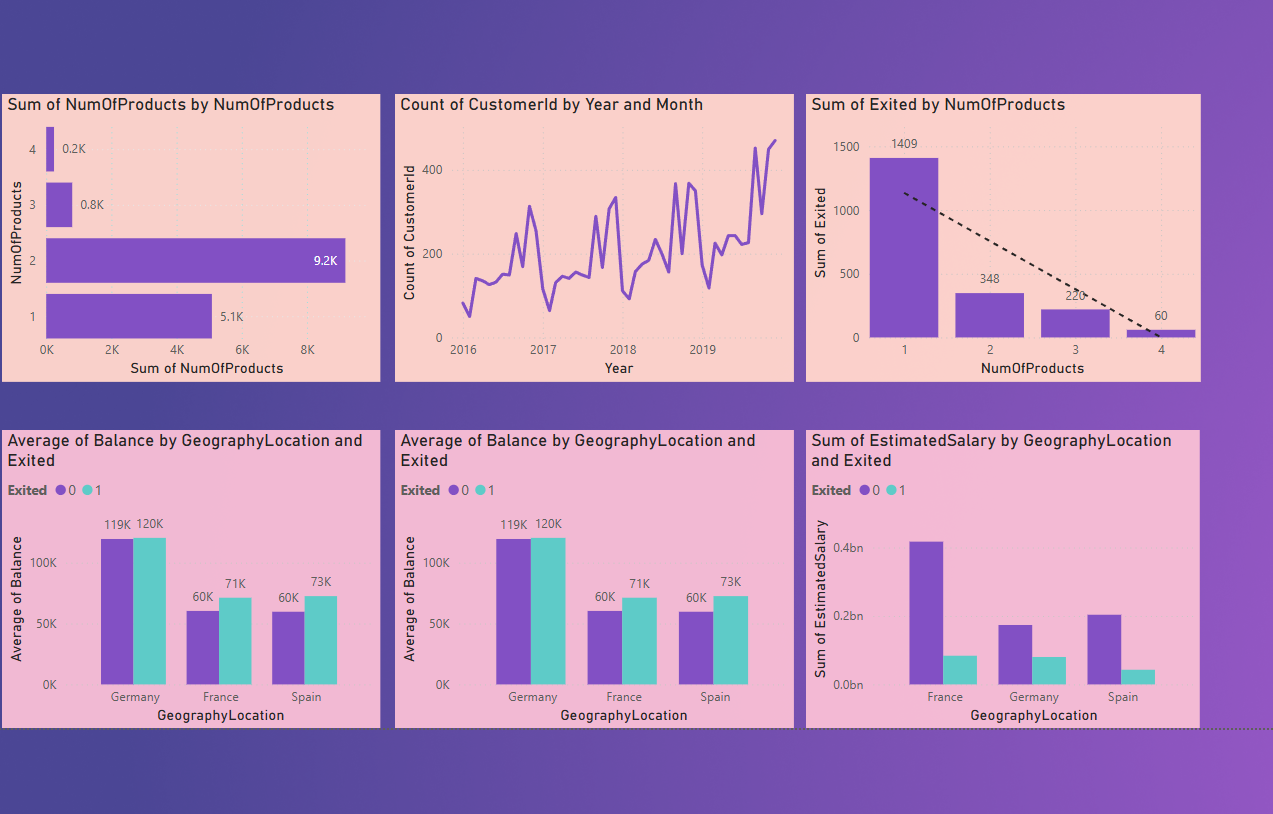

What the dashboard file says about the page in this screenshot:
{"tool":"powerbi","page":{"name":"Dashboard 1","canvas":[1280,720],"ordinal":0},"visuals":[{"type":"barChart","fields":{"Category":["Bank_Churn.NumOfProducts"],"Y":["Sum(Bank_Churn.NumOfProducts)"]},"box":[12,102.9,367.7,279.8],"z":0},{"type":"lineChart","fields":{"Category":["CustomerInfo.Bank DOJ.Variation.Date Hierarchy.Year","CustomerInfo.Bank DOJ.Variation.Date Hierarchy.Month"],"Y":["CountNonNull(CustomerInfo.CustomerId)"]},"box":[393.7,102.9,387.7,279.8],"z":1000},{"type":"clusteredColumnChart","fields":{"Category":["Bank_Churn.NumOfProducts"],"Y":["Sum(Bank_Churn.Exited)"]},"box":[793.4,102.9,383.7,279.8],"z":2000},{"type":"clusteredColumnChart","fields":{"Y":["Avg(Bank_Churn.Balance)"],"Category":["Geography.GeographyLocation"],"Series":["Bank_Churn.Exited"]},"box":[12,429.7,367.7,290.8],"z":3000},{"type":"clusteredColumnChart","fields":{"Y":["Avg(Bank_Churn.Balance)"],"Category":["Geography.GeographyLocation"],"Series":["Bank_Churn.Exited"]},"box":[393.7,429.7,387.7,290.8],"z":4000},{"type":"clusteredColumnChart","fields":{"Y":["Sum(CustomerInfo.EstimatedSalary)"],"Category":["Geography.GeographyLocation"],"Series":["Bank_Churn.Exited"]},"box":[793.4,429.7,382.7,290.8],"z":5000}]}

Visuals, with their boxes in screenshot pixels (x1, y1, x2, y2):
barChart - Bank_Churn.NumOfProducts x Sum(Bank_Churn.NumOfProducts): detection(6, 95, 379, 379)
lineChart - CustomerInfo.Bank DOJ.Variation.Date Hierarchy.Year x CustomerInfo.Bank DOJ.Variation.Date Hierarchy.Month: detection(394, 95, 788, 379)
clusteredColumnChart - Bank_Churn.NumOfProducts x Sum(Bank_Churn.Exited): detection(800, 95, 1190, 379)
clusteredColumnChart - Avg(Bank_Churn.Balance) x Geography.GeographyLocation: detection(6, 427, 379, 723)
clusteredColumnChart - Avg(Bank_Churn.Balance) x Geography.GeographyLocation: detection(394, 427, 788, 723)
clusteredColumnChart - Sum(CustomerInfo.EstimatedSalary) x Geography.GeographyLocation: detection(800, 427, 1189, 723)
